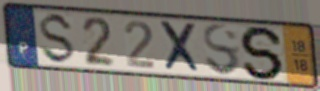2: (80, 15, 117, 67), (122, 19, 156, 71)
S: (238, 24, 286, 82), (201, 22, 243, 79), (38, 11, 77, 67)
X: (156, 19, 205, 76)
